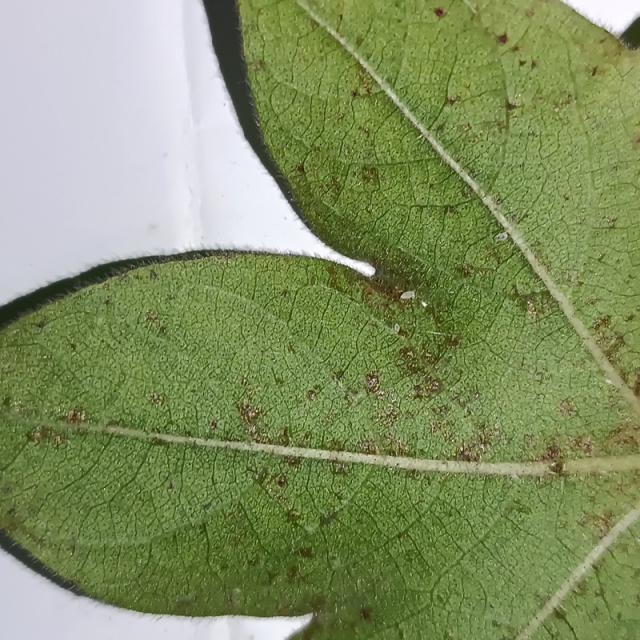Bacterial_Blight: (590, 322, 636, 383), (358, 270, 425, 311), (454, 426, 501, 463), (492, 97, 523, 141), (602, 420, 640, 455), (577, 508, 616, 535), (590, 218, 636, 240), (501, 498, 534, 522), (237, 400, 264, 428), (375, 401, 401, 429), (380, 434, 409, 458), (70, 402, 93, 430), (143, 309, 168, 334), (567, 434, 594, 457), (27, 425, 56, 445), (413, 381, 440, 401), (344, 388, 368, 409), (551, 93, 573, 113), (429, 419, 452, 438), (361, 165, 380, 187), (318, 509, 341, 527), (558, 398, 577, 417), (356, 74, 373, 95), (327, 174, 343, 196), (544, 443, 562, 462), (457, 446, 477, 463), (174, 595, 195, 611), (364, 372, 380, 392), (592, 315, 612, 331), (548, 460, 567, 476), (399, 346, 416, 363), (571, 579, 588, 596), (308, 595, 326, 611), (504, 97, 521, 113), (329, 460, 347, 475), (276, 602, 294, 617), (525, 300, 538, 320), (327, 555, 343, 571), (284, 454, 301, 468), (553, 604, 568, 619), (149, 392, 165, 406), (12, 402, 27, 416), (504, 624, 519, 638), (298, 546, 314, 559), (303, 522, 320, 534), (460, 264, 474, 278), (331, 368, 345, 382), (363, 442, 378, 455), (287, 565, 298, 581), (428, 379, 441, 392), (282, 426, 292, 442), (69, 537, 77, 557), (286, 508, 299, 520), (448, 336, 460, 348), (447, 94, 460, 105), (444, 204, 456, 215), (624, 312, 636, 323), (286, 342, 297, 354), (360, 608, 370, 621), (1, 395, 11, 408), (494, 232, 508, 241), (306, 390, 317, 401), (606, 217, 617, 228), (497, 33, 508, 44), (277, 476, 287, 488), (208, 419, 218, 431), (240, 375, 250, 387), (296, 164, 306, 175), (434, 7, 445, 17), (232, 587, 242, 598), (525, 8, 535, 18), (202, 501, 212, 511), (102, 281, 111, 292), (103, 296, 112, 307), (35, 320, 46, 329), (167, 478, 175, 490), (6, 507, 16, 516), (150, 269, 158, 280), (518, 58, 527, 67), (461, 124, 471, 132), (591, 66, 598, 77), (350, 90, 358, 99), (69, 342, 77, 351), (280, 289, 289, 297), (530, 59, 537, 69), (616, 612, 623, 622), (362, 126, 370, 134), (394, 323, 400, 333), (597, 252, 605, 259), (605, 378, 613, 385), (554, 106, 560, 113), (417, 134, 423, 140), (247, 636, 254, 640)
Cotton: (0, 0, 639, 639), (304, 0, 639, 395)
